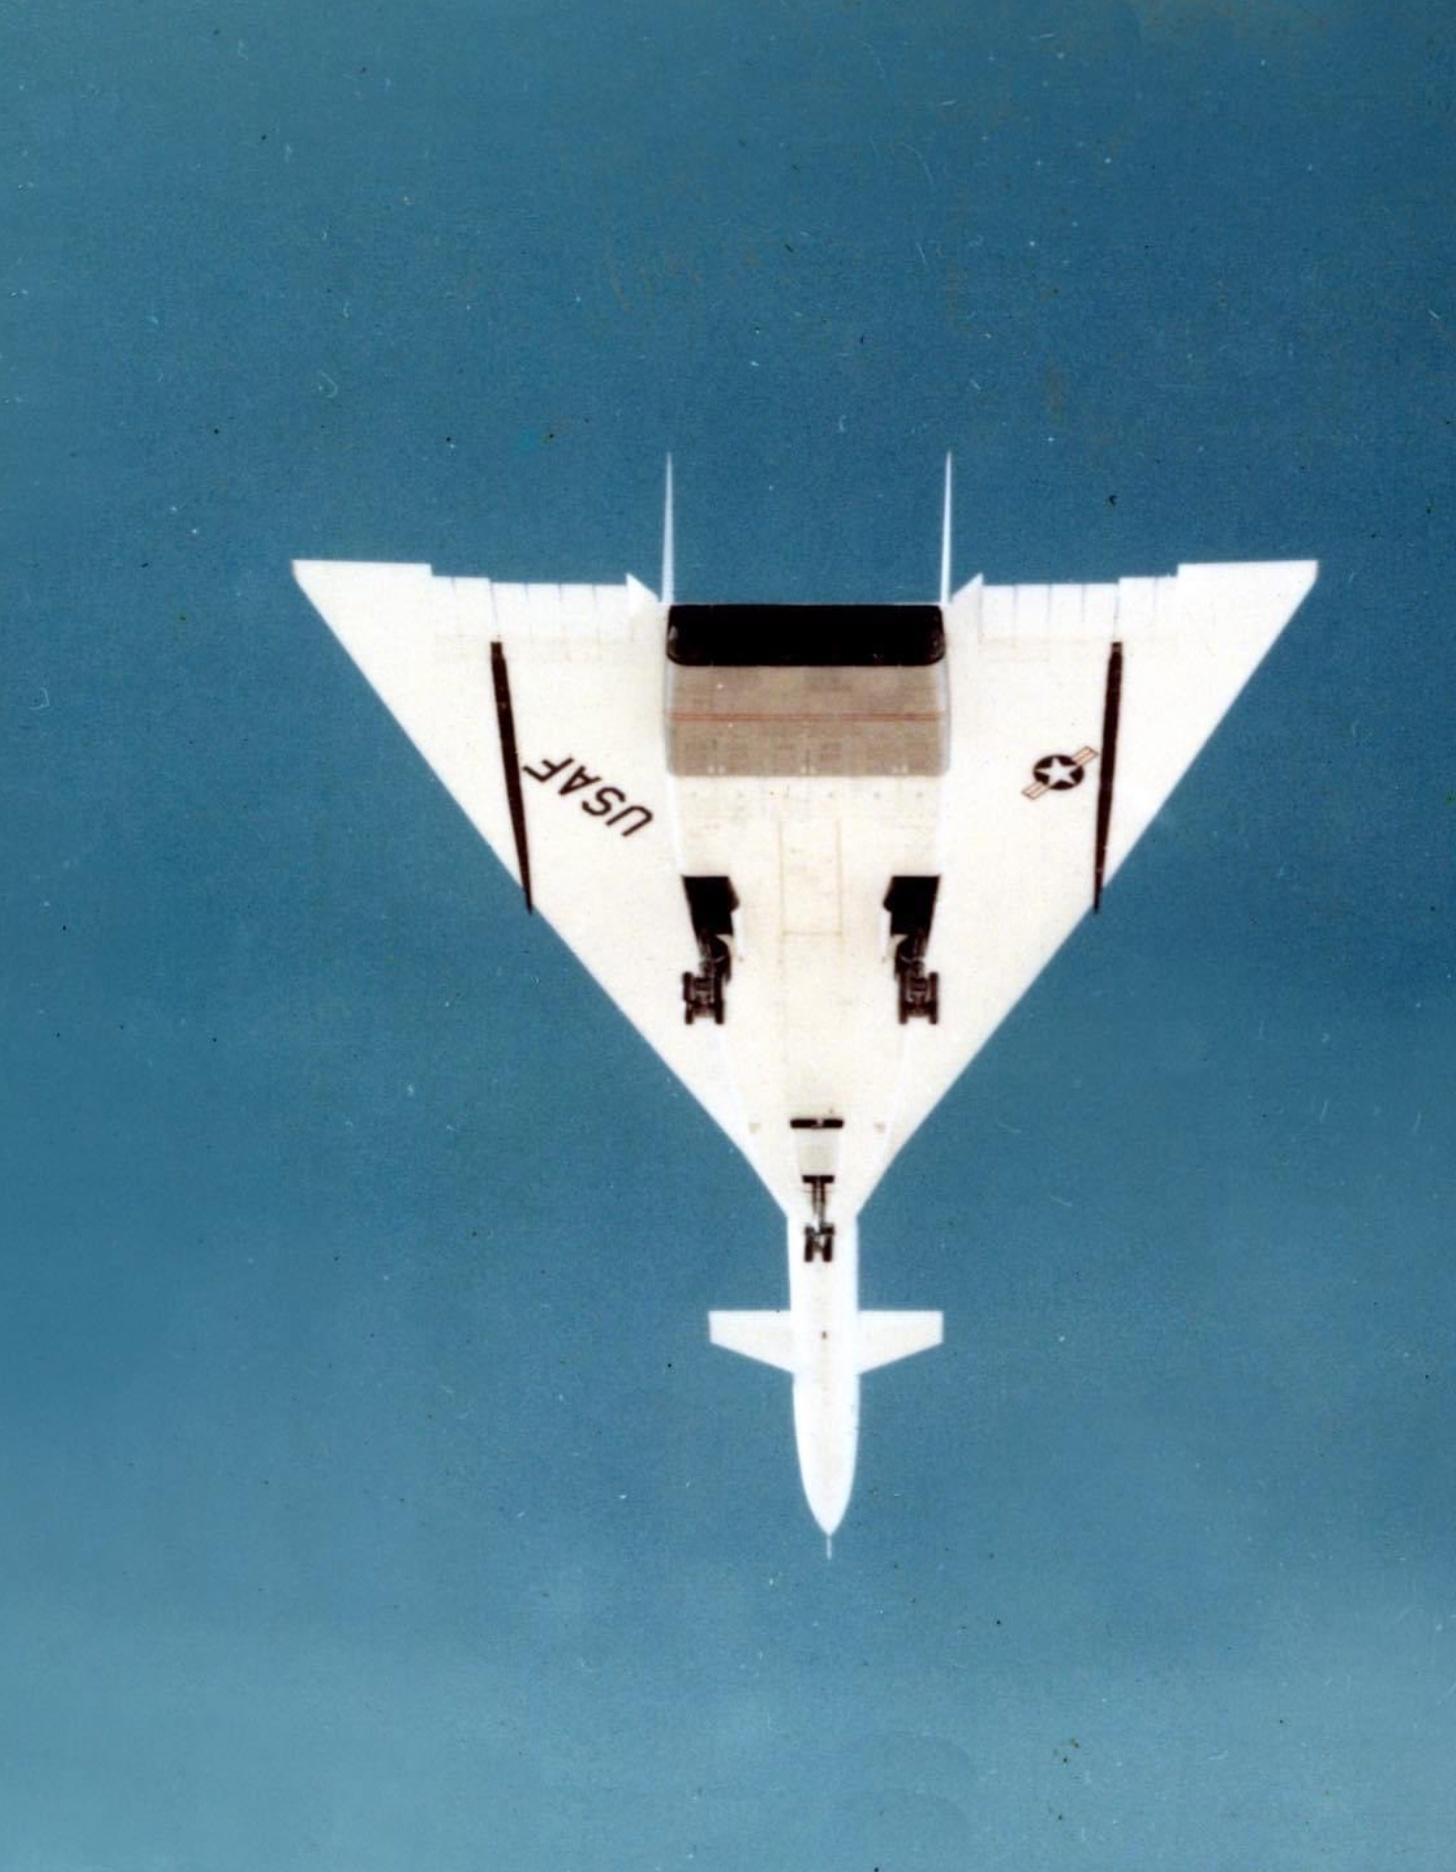airplane: (287, 448, 1318, 1561)
